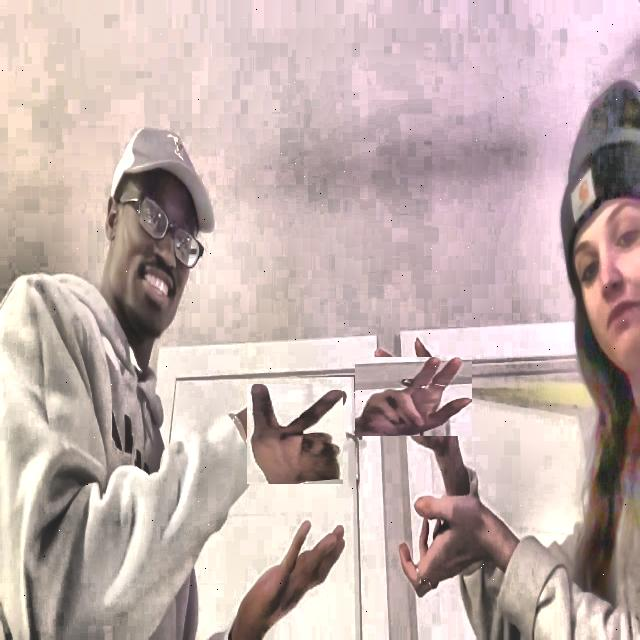not-gloved: (246, 384, 344, 484), (364, 348, 462, 446)
